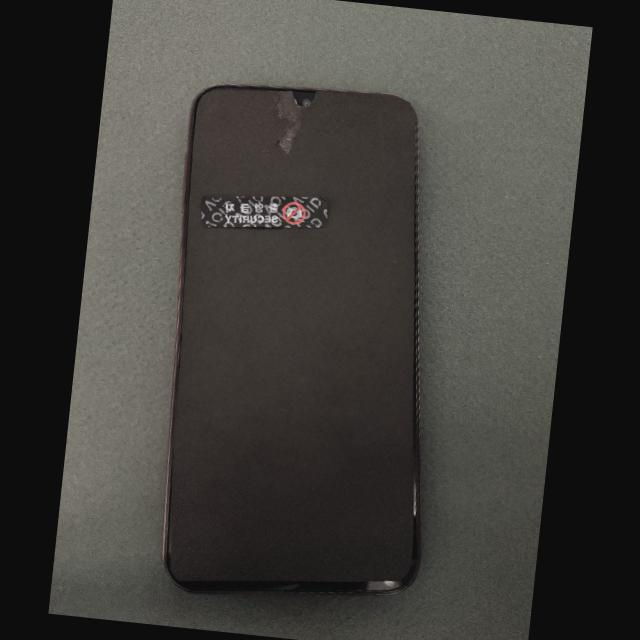lens: (302, 99, 310, 107)
phone: (163, 85, 420, 595)
sticker: (201, 195, 327, 228)
